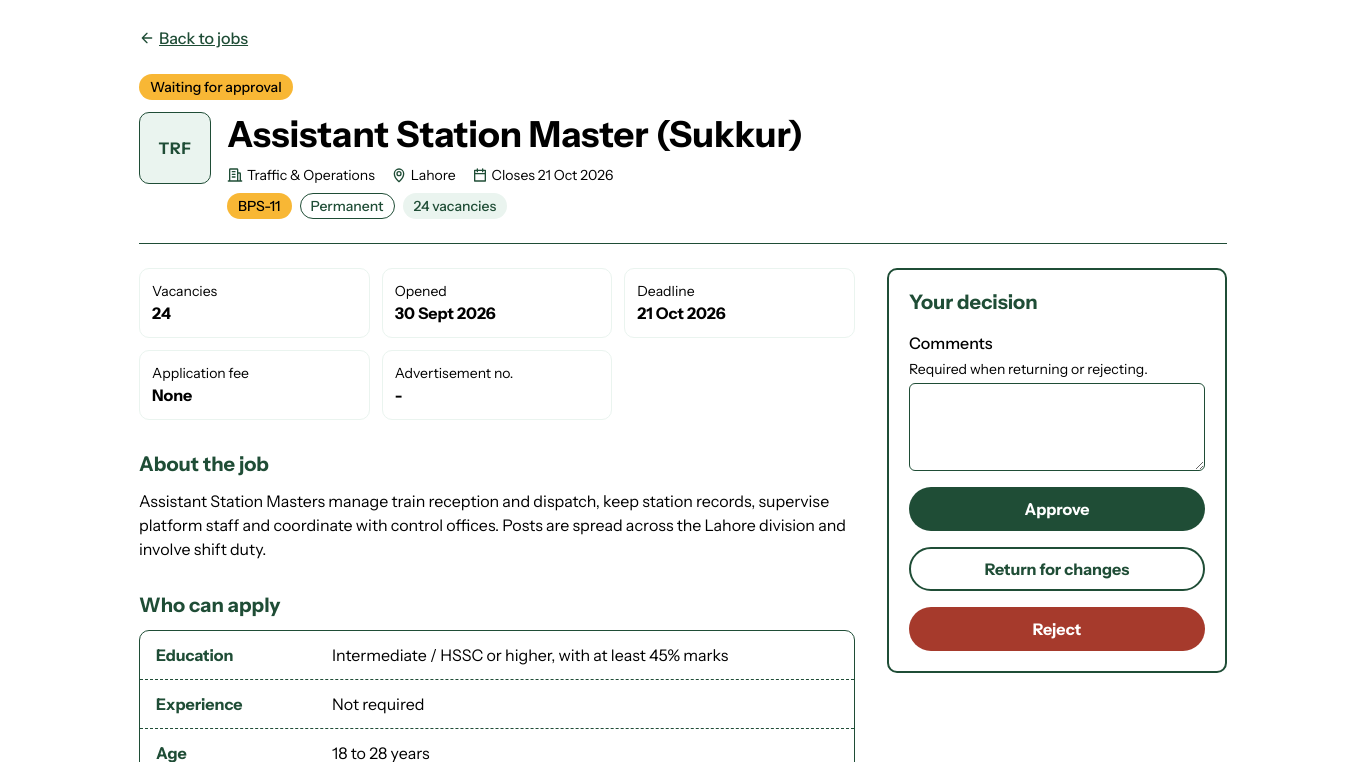
it: AdminJobPage › lets an approver return a job only with comments
The width and height of the screenshot is (1366, 762).
Expected: the text "Waiting for approval" is shown, [139,74,293,100]
Click the button "Return for changes".
click(1057, 569)  # box [909,547,1205,591]
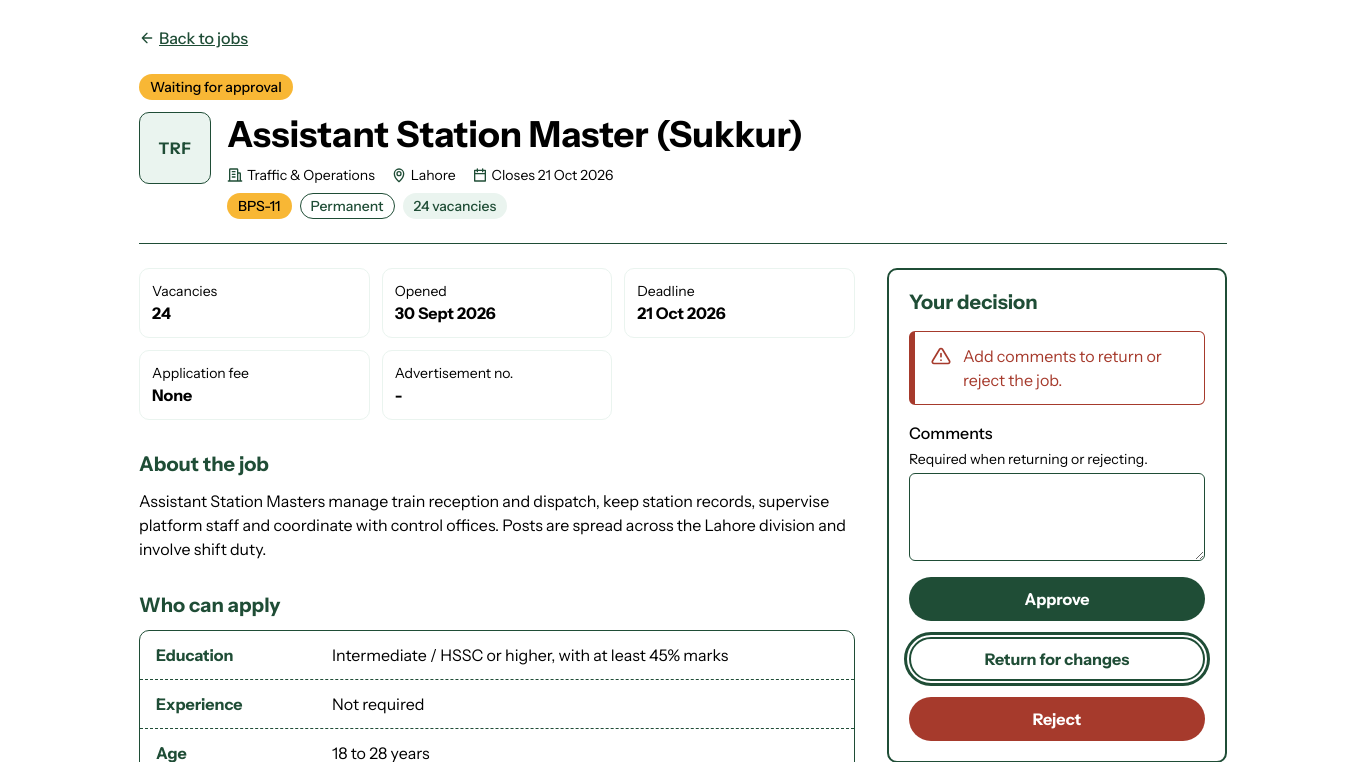
Expected: the text "Add comments to return or reject the job." is shown, [963,344,1188,392]
Type "Check the age limit." into the text box labelled "Comments".
click(1057, 517); type("Check the age limit.")  # box [909,473,1205,561]
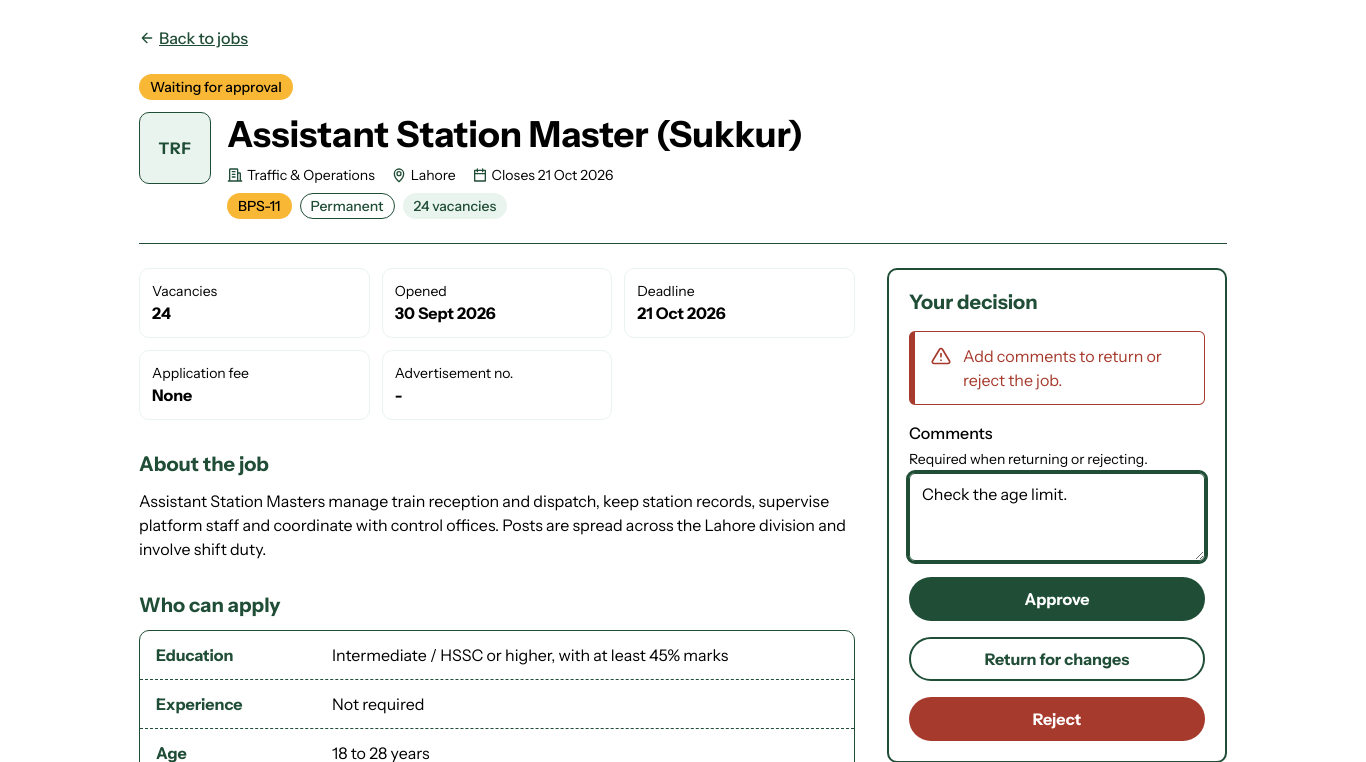
Click the button "Return for changes".
click(1057, 659)  # box [909,637,1205,681]
(page scrolled)
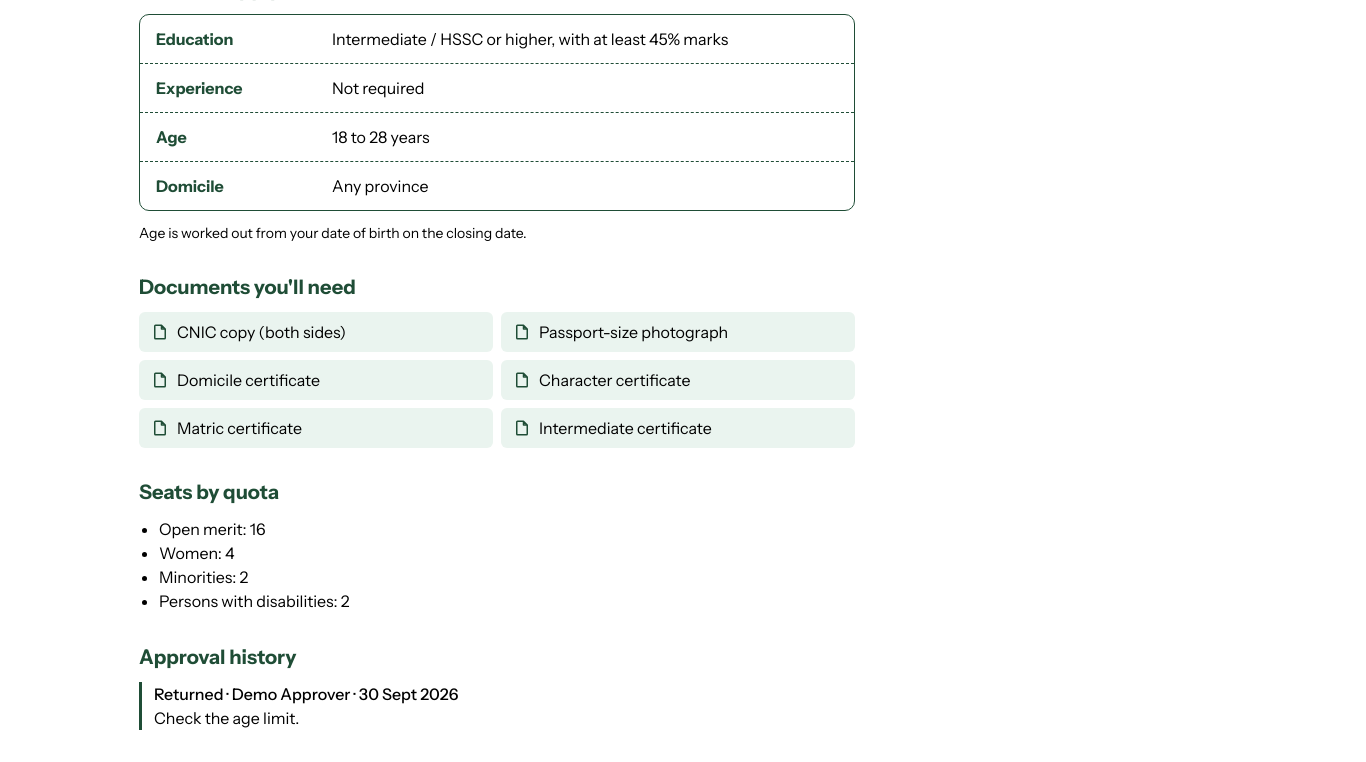
Expected: the text "Check the age limit." is shown, [154,708,299,728]
